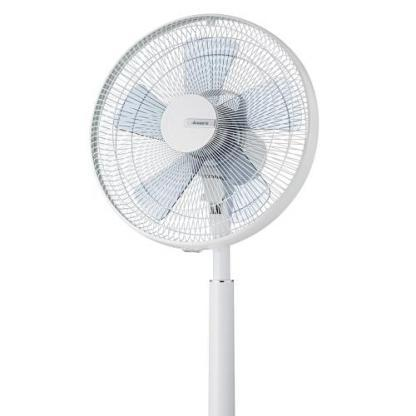fan: (88, 14, 326, 254)
